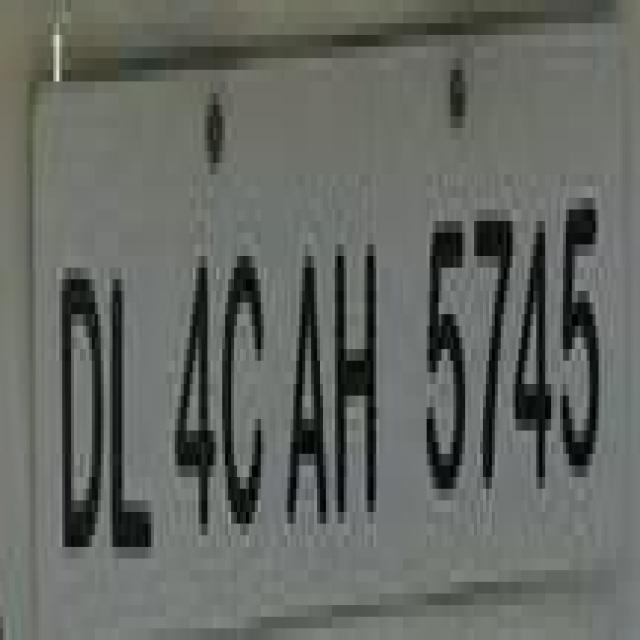plate: (15, 23, 640, 617)
